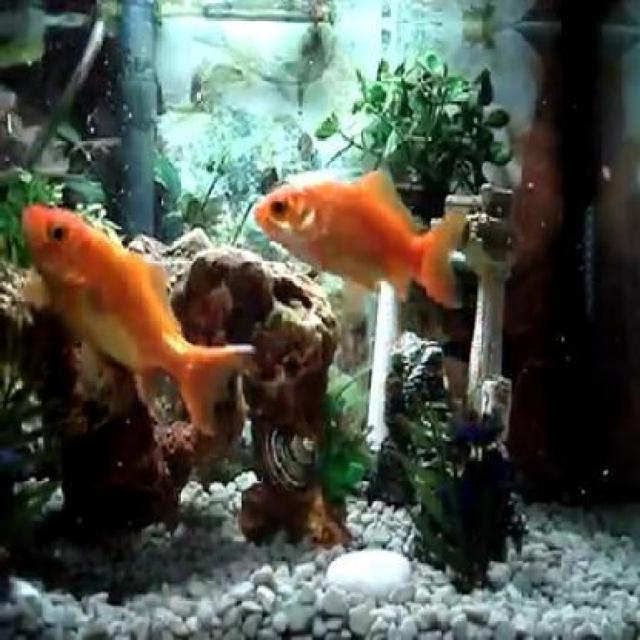GoldFish: (16, 200, 249, 434), (252, 158, 463, 310)
